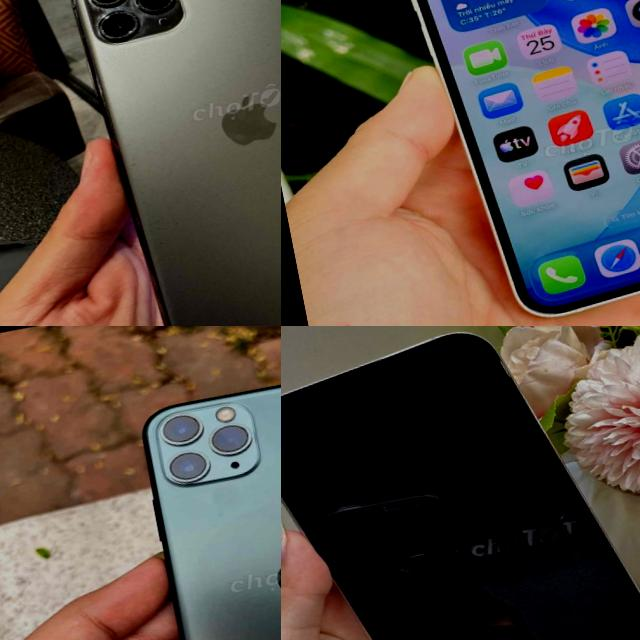gen_11: (58, 0, 281, 326), (127, 341, 281, 640)
gen_12_13: (390, 0, 640, 326)
gen_16: (281, 333, 640, 640)
